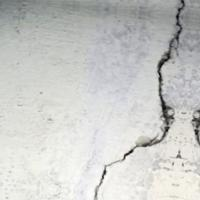crack: (92, 0, 188, 199)
